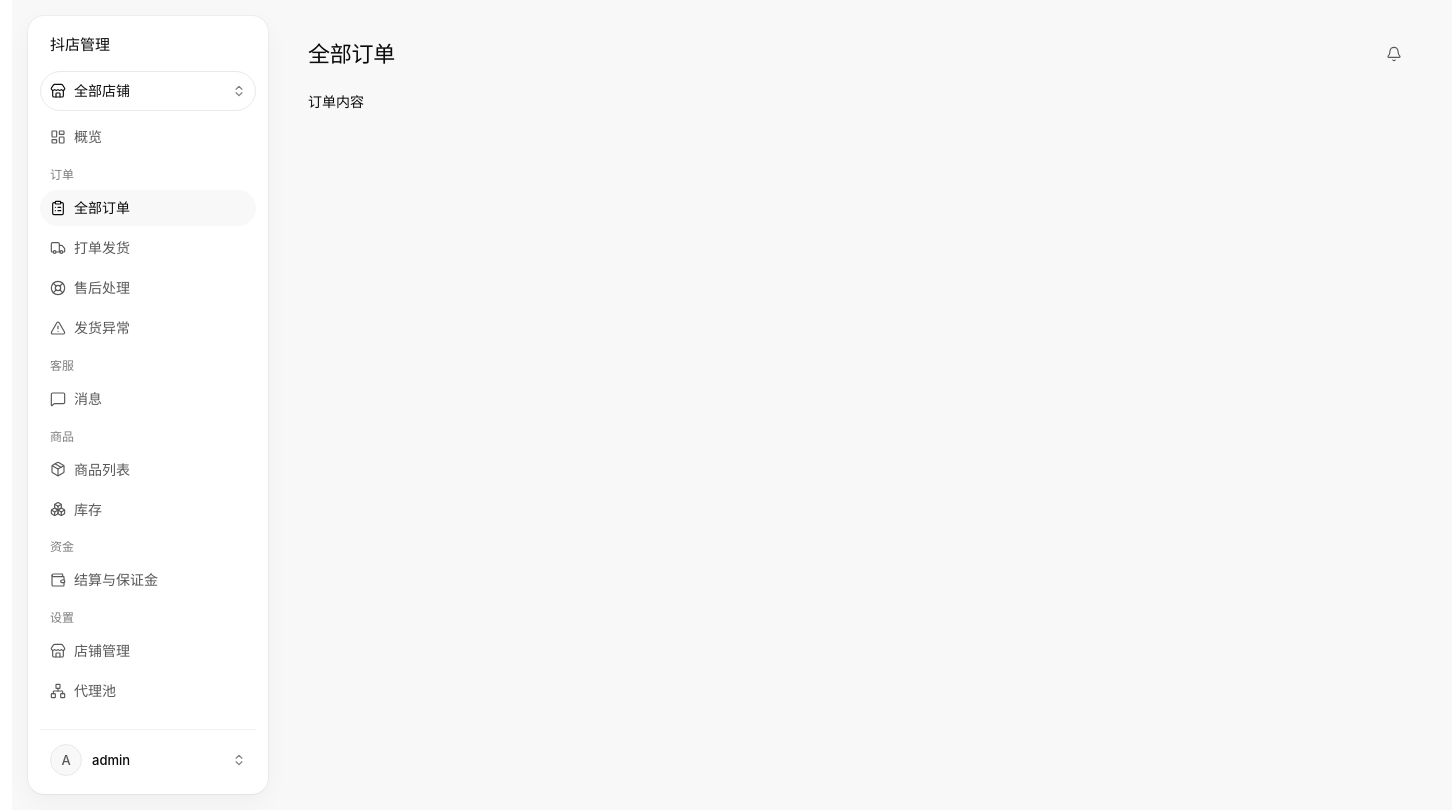
Test case: App Shell › 店铺筛选写入 URL，并在切换时回到第 1 页
Click the button with aria-label "店铺筛选": {"x": 148, "y": 91} x1=40 y1=71 x2=256 y2=111
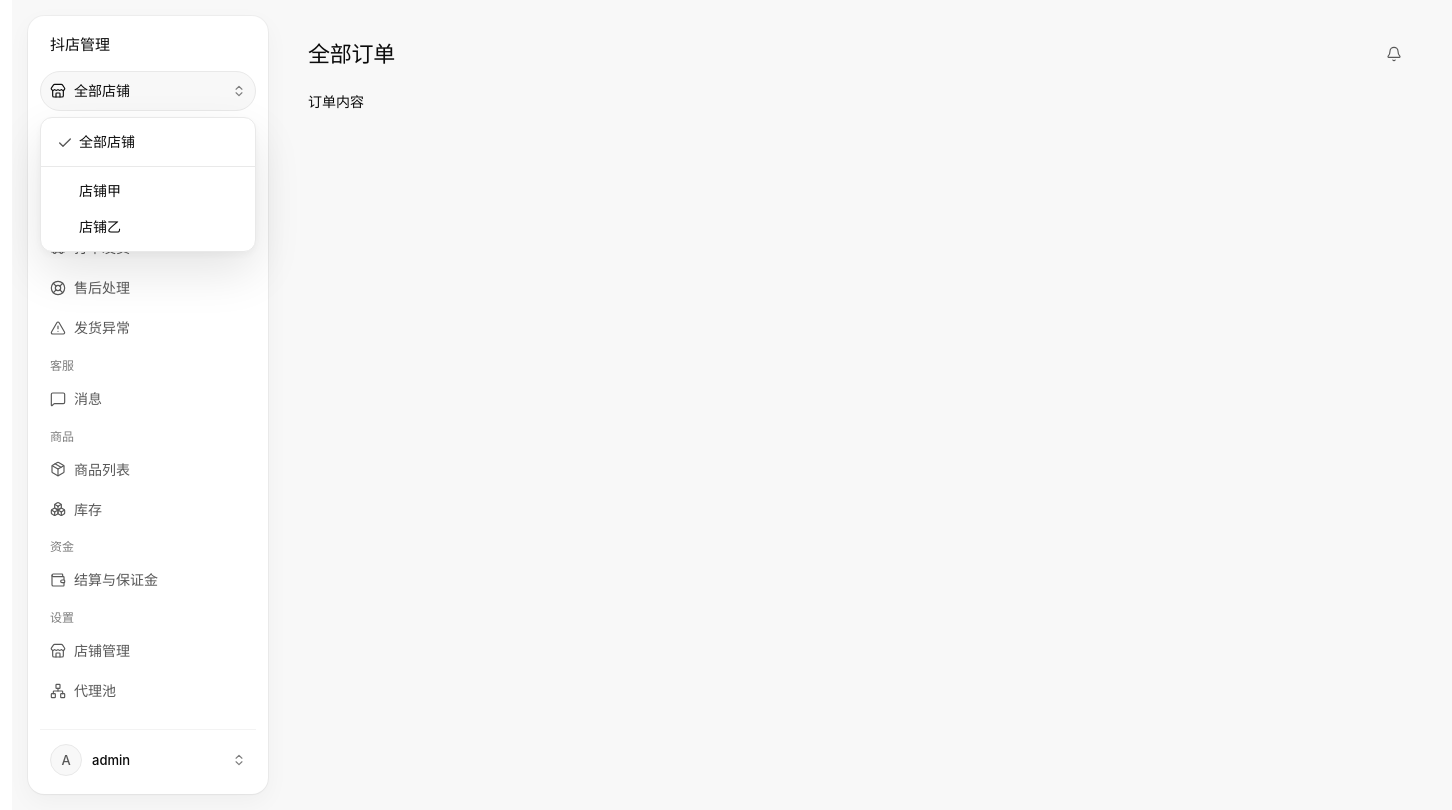
Click the menu item "店铺乙": {"x": 100, "y": 227} x1=79 y1=218 x2=121 y2=235
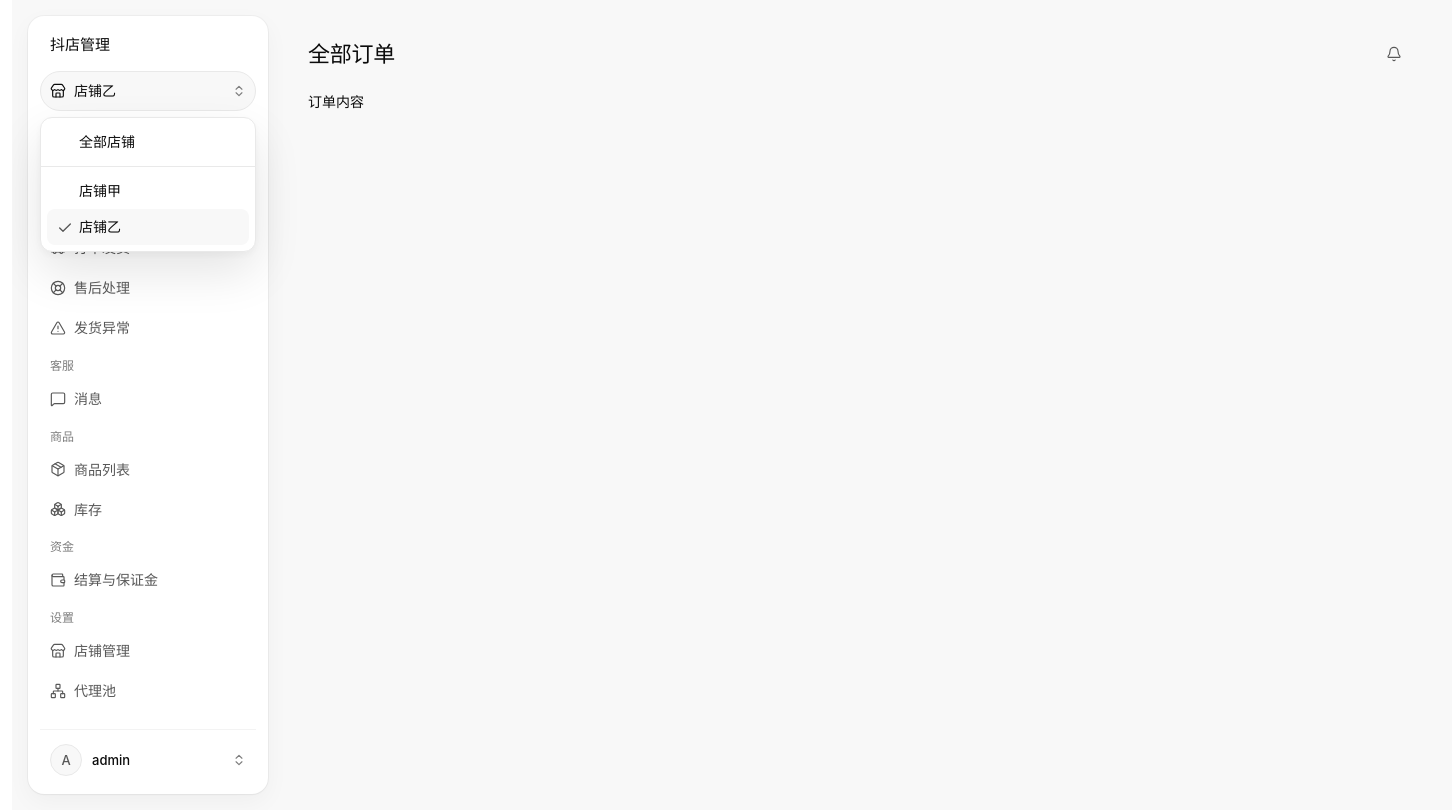
Now the button with aria-label "店铺筛选，店铺乙" is shown, box x1=40 y1=71 x2=256 y2=111
Click the menu item "全部店铺": {"x": 107, "y": 142} x1=79 y1=133 x2=135 y2=150
(page scrolled)
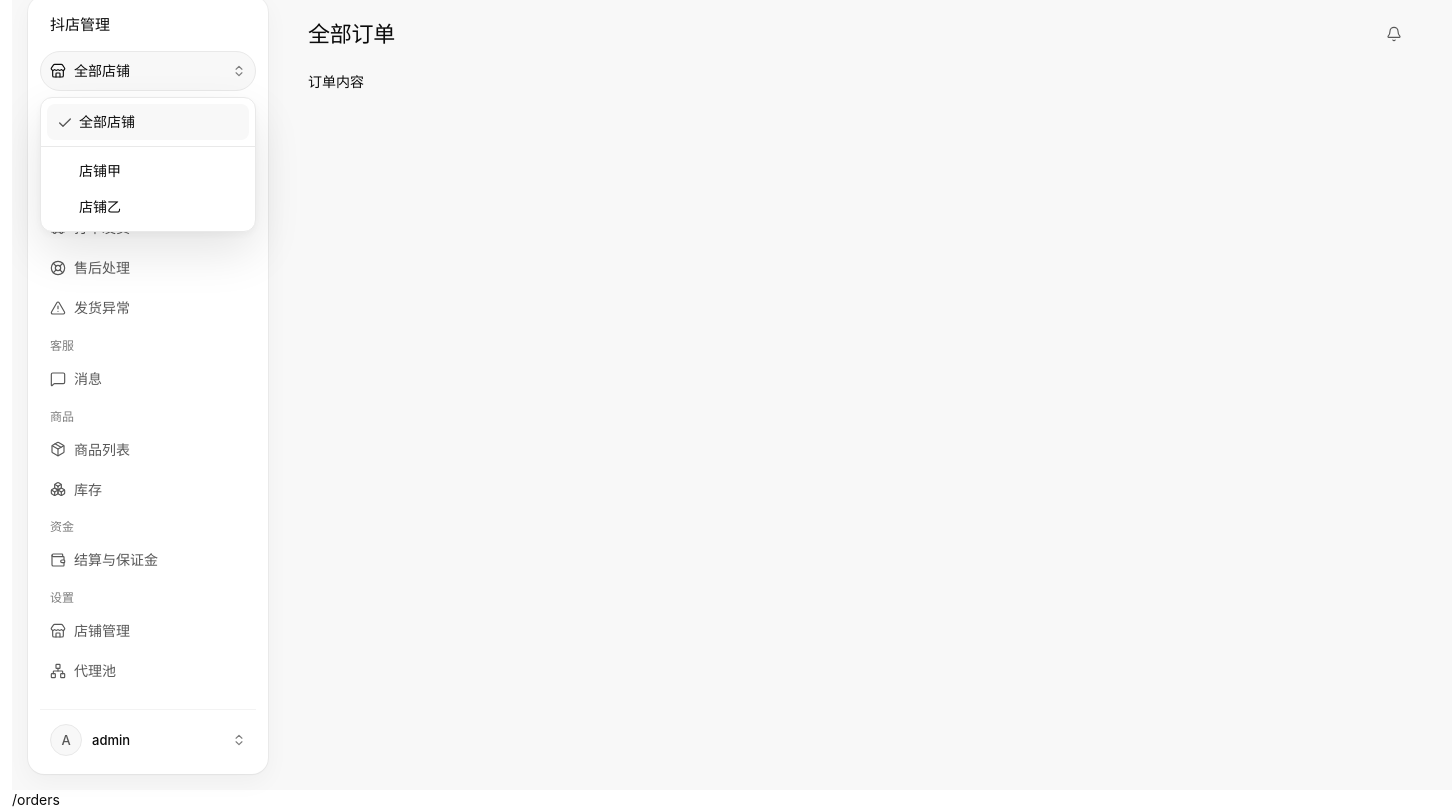
Now the text with test id "where" reads "/orders", box x1=12 y1=791 x2=60 y2=808
